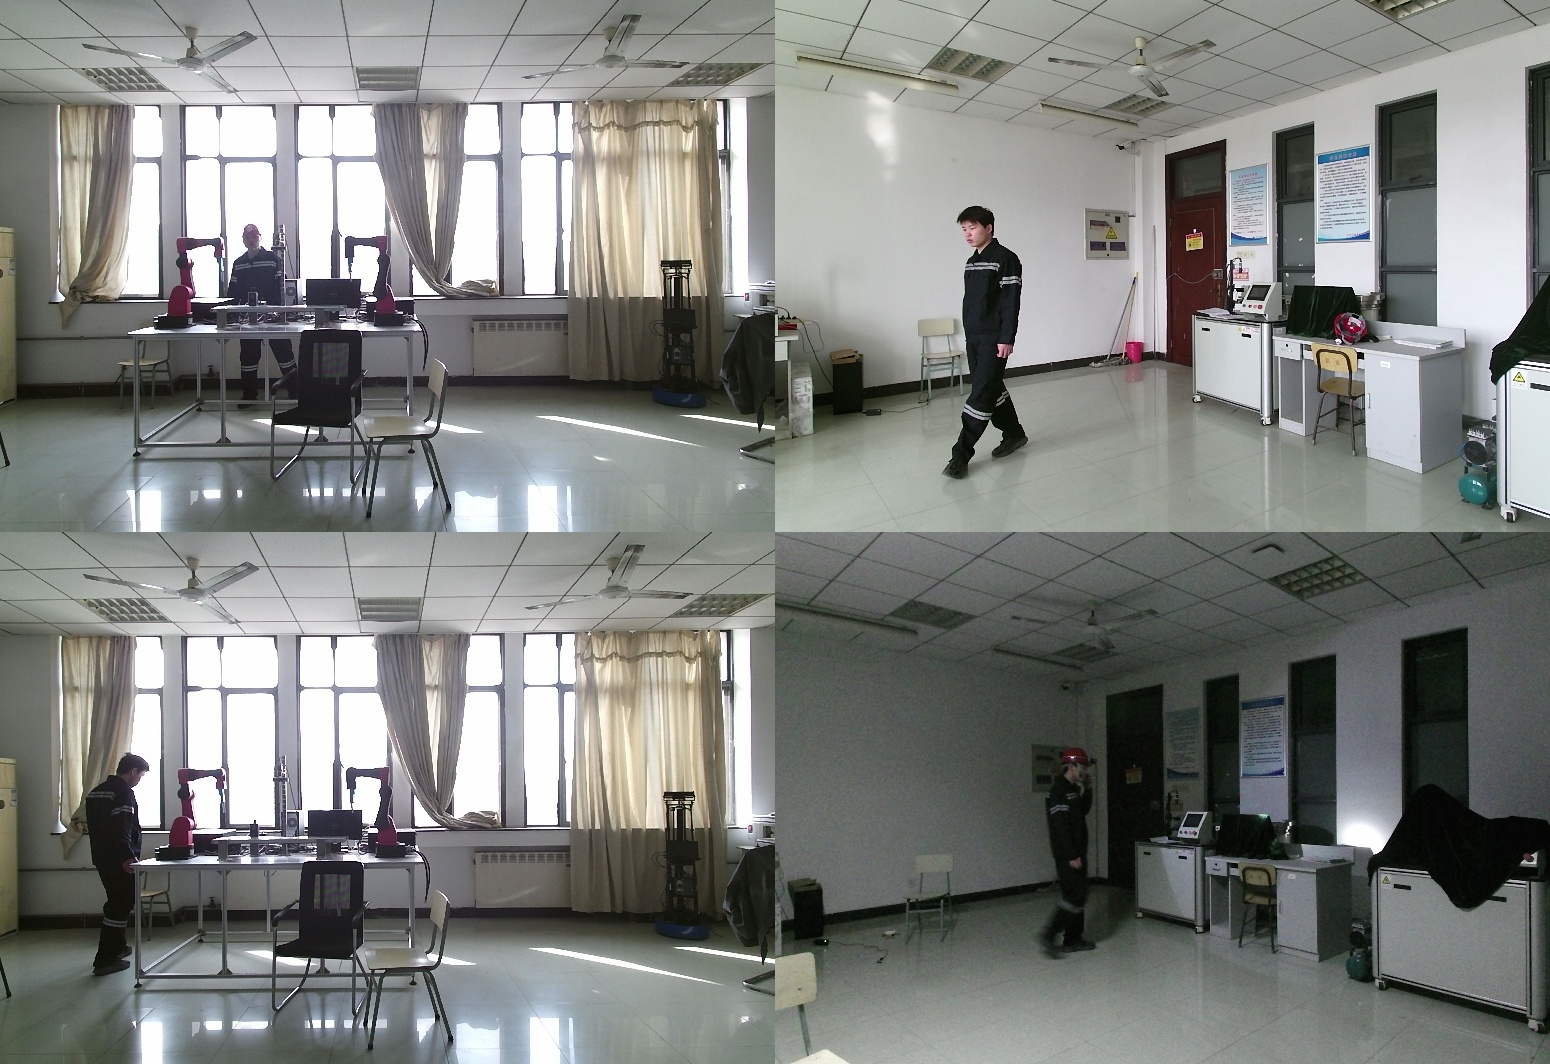person: (943, 207, 1035, 477), (1017, 748, 1099, 970), (83, 755, 150, 977), (224, 224, 300, 409)
